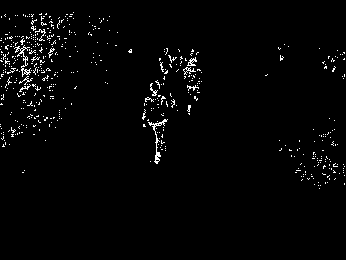person: (139, 79, 175, 167), (183, 53, 203, 117), (157, 44, 173, 84)
